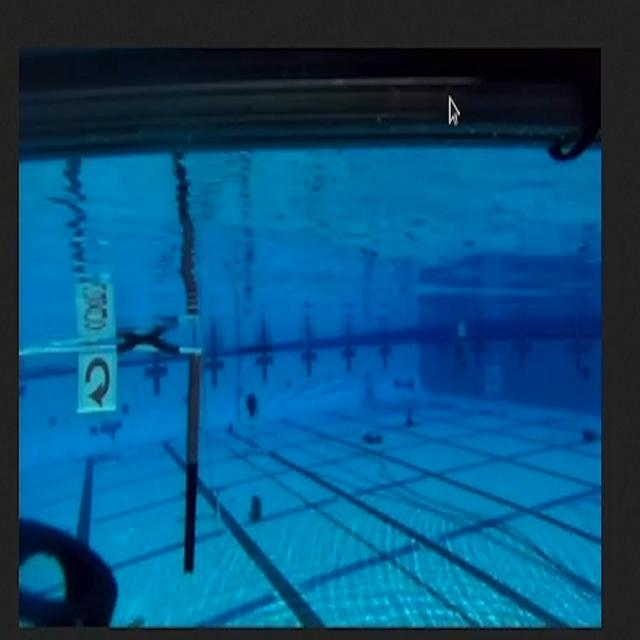Gate: (18, 338, 209, 588)
